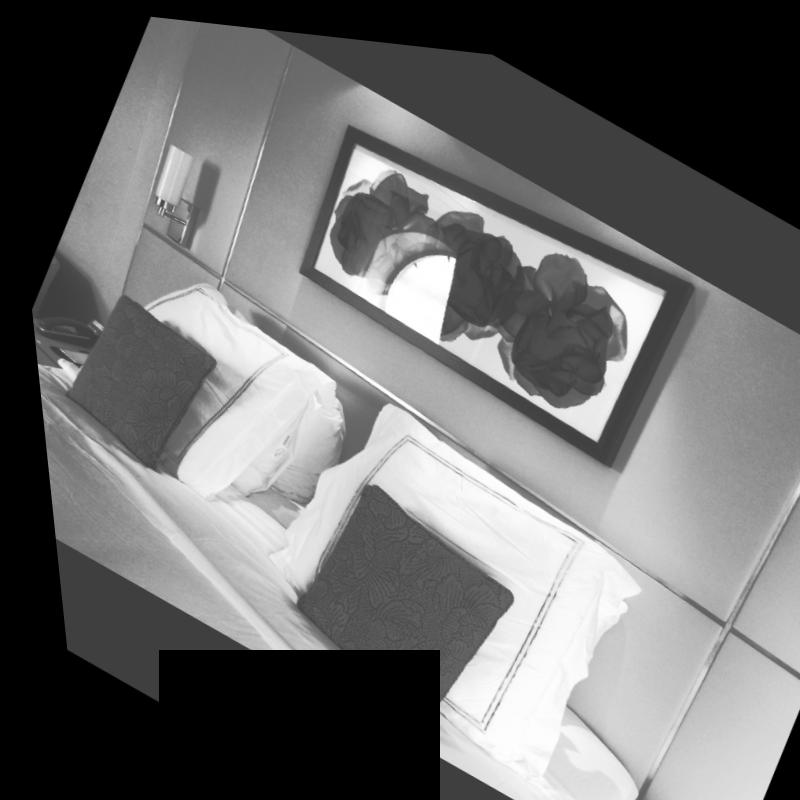pillow: (213, 354, 649, 782), (18, 220, 347, 545), (247, 452, 534, 745)
